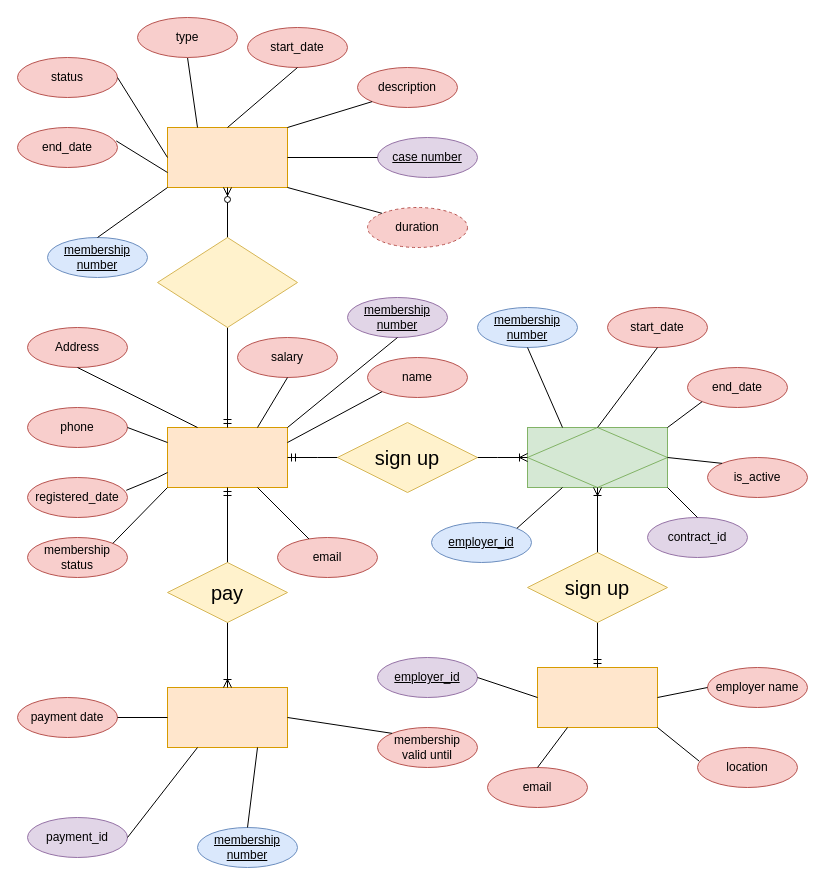
Image size: 825x885. Some labels were removed from this diagram. The shapes that lost their labels are listed below. From the top down, each one's box as (x1, y1, x2, y2) in pixels, then its label:
(166, 126, 288, 188): cases
(156, 236, 298, 328): in charge of
(166, 426, 288, 488): members
(526, 426, 668, 488): contracts
(166, 686, 288, 748): payments
(536, 666, 658, 728): employers
